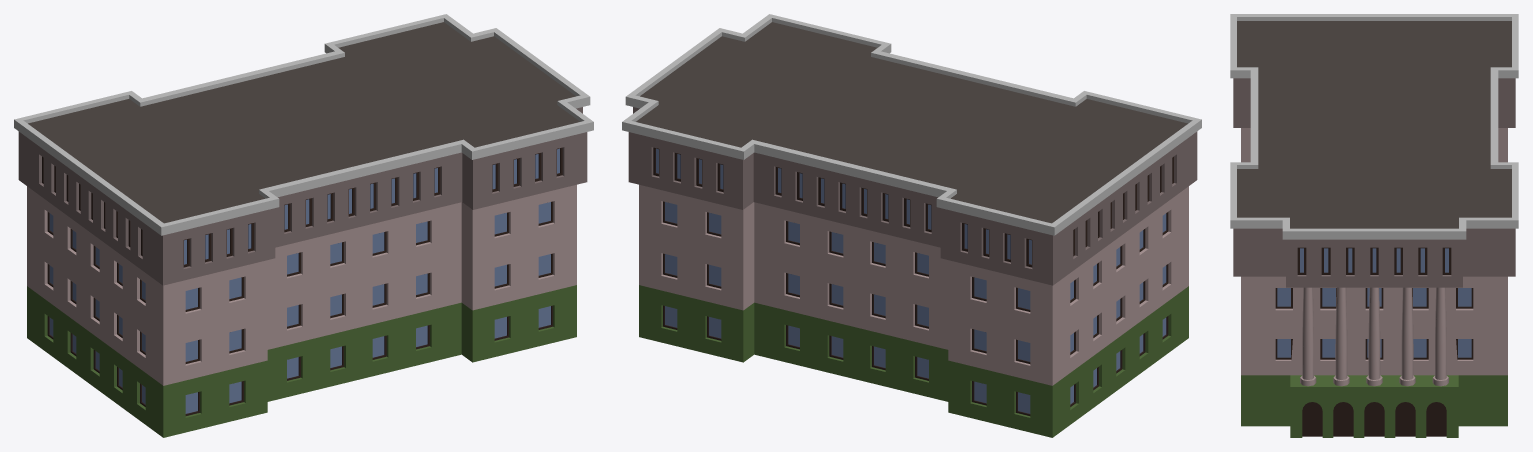
The model's file is GovernmentBuilding_07.fbx.
3 views of the same model, side by side, from view 1: azimuth 30°, elevation 25°; view 2: azimuth 150°, elevation 25°; view 3: azimuth 270°, elevation 25° (orthographic). The views are drawn at different scales.
Parts seen in each view (by area): view 1: GovernmentBuilding_07; view 2: GovernmentBuilding_07; view 3: GovernmentBuilding_07.
Part boxes in pixels (bbox=[...]): GovernmentBuilding_07: bbox=[14, 14, 593, 437]; GovernmentBuilding_07: bbox=[622, 14, 1201, 437]; GovernmentBuilding_07: bbox=[1230, 14, 1518, 437].
Size of the model in its own units: 37.21 by 16.89 by 20.85.
